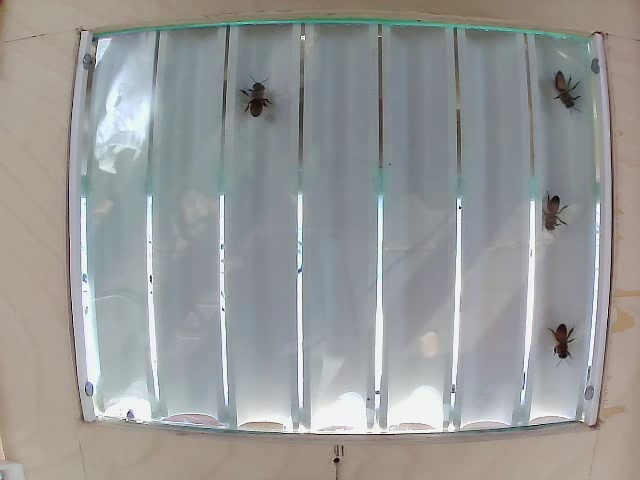bee: (539, 190, 567, 248), (240, 76, 274, 123), (543, 317, 577, 361), (553, 66, 578, 112)
